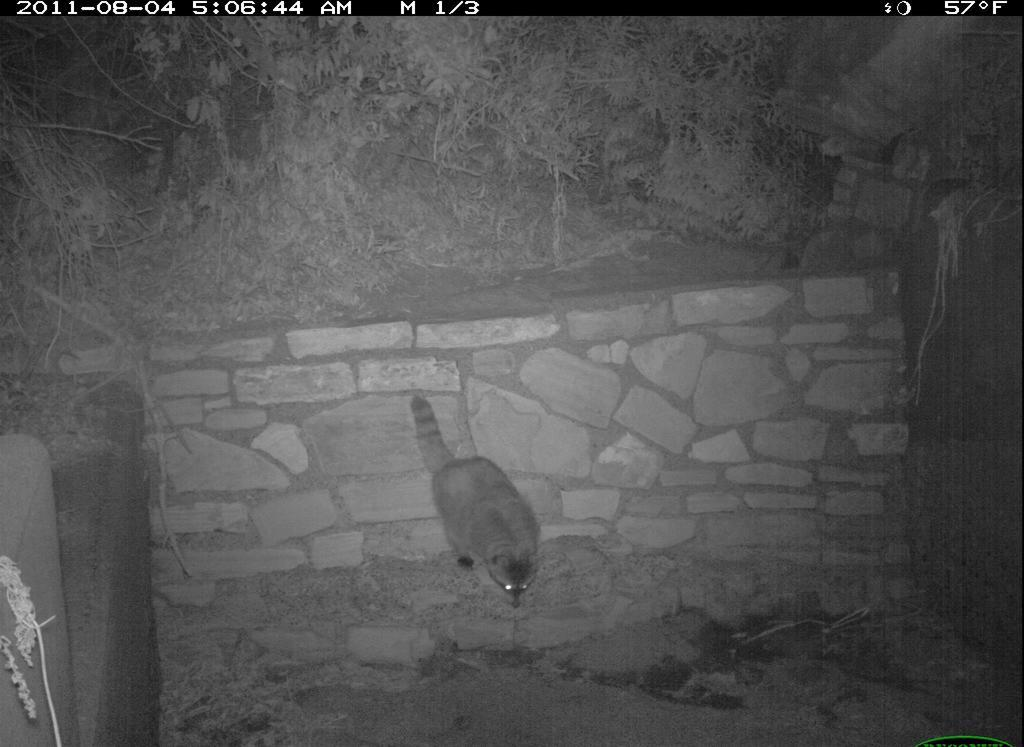raccoon: (390, 356, 600, 641)
